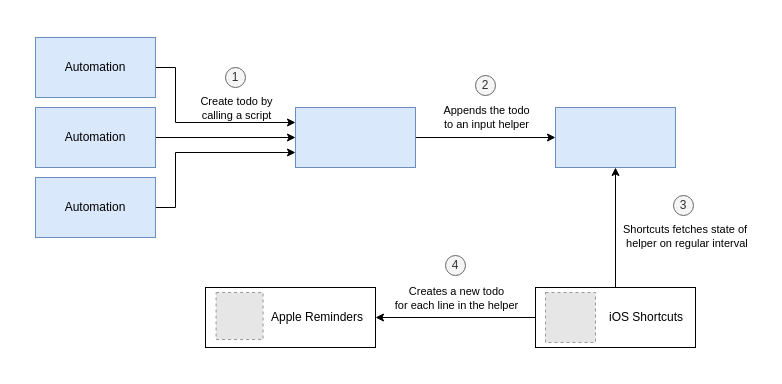
The diagram is 782 pixels wide and 384 high, and some of its shapes have lost their labels. Grey dashed boxes stand in for pictures. The centre of each missing label's shape, as x and y in pixels:
Input Text Helper: point (615, 137)
Script: point (355, 137)
